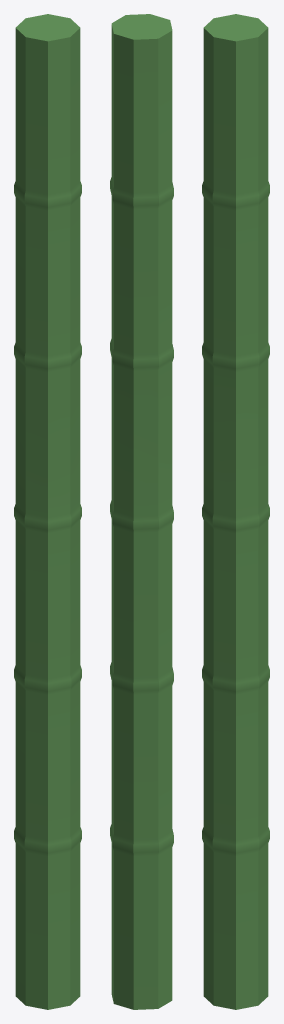
Rendered from Bamboo_slice_alpha.fbx.
The picture shows the model from 3 angles, left to right: view 1: azimuth 90°, elevation 25°; view 2: azimuth 210°, elevation 25°; view 3: azimuth 270°, elevation 25°; orthographic projection.
Parts seen in each view (by area): view 1: Bottom, Top; view 2: Bottom, Top; view 3: Bottom, Top.
Boxes of the visible parts, left/top/right/bottom form: Bottom: left=14, top=439, right=81, bottom=1009; Top: left=14, top=14, right=81, bottom=468; Bottom: left=110, top=424, right=173, bottom=1009; Top: left=110, top=14, right=173, bottom=452; Bottom: left=202, top=435, right=269, bottom=1009; Top: left=202, top=14, right=269, bottom=438.
Bounding box in the file's own units: 9.51 × 150 × 9.51.
